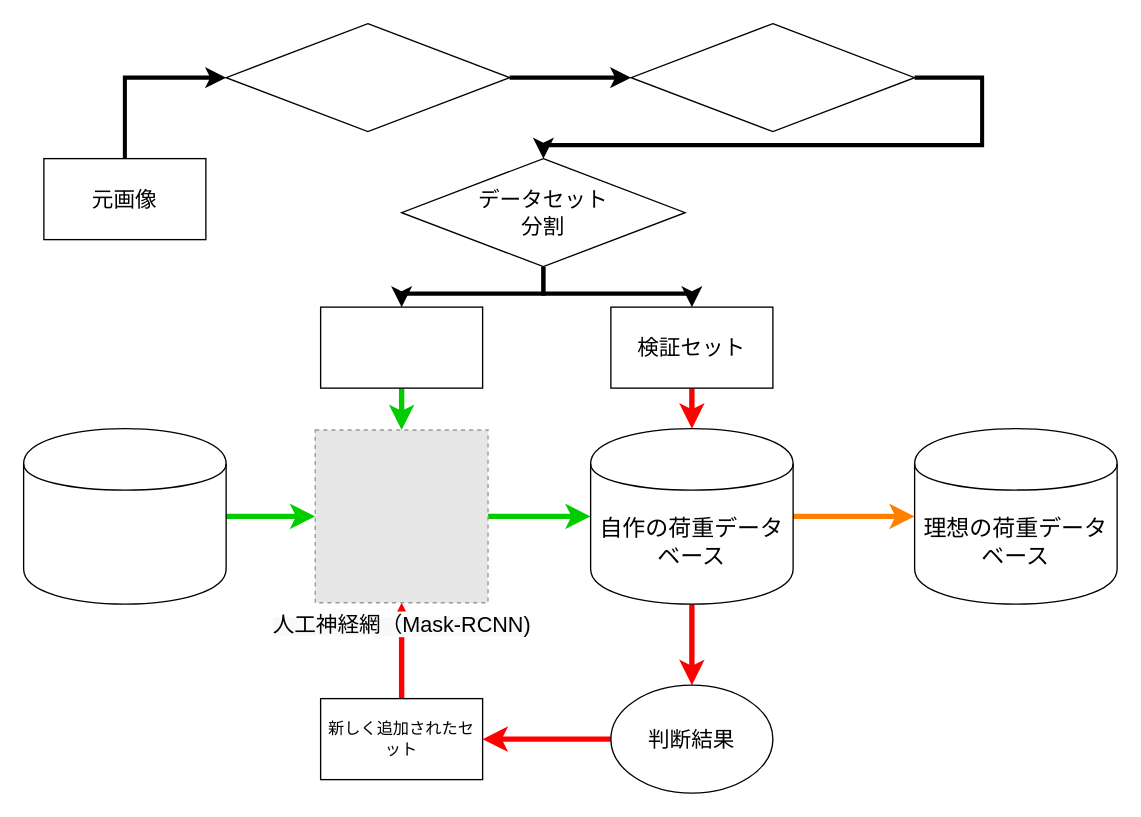
Some shapes in this 1141 by 817 pixel diagram are drawn without their labels. Grey dashed boxes stand in for pictures. Here are the shapes that lost their labels. From the top down, the centre of each, then its label:
At [367,77]: "データベース拡大".
At [772,77]: "画像処理".
At [401,347]: "訓練セット".
At [124,515]: "既存の荷重データベース".
